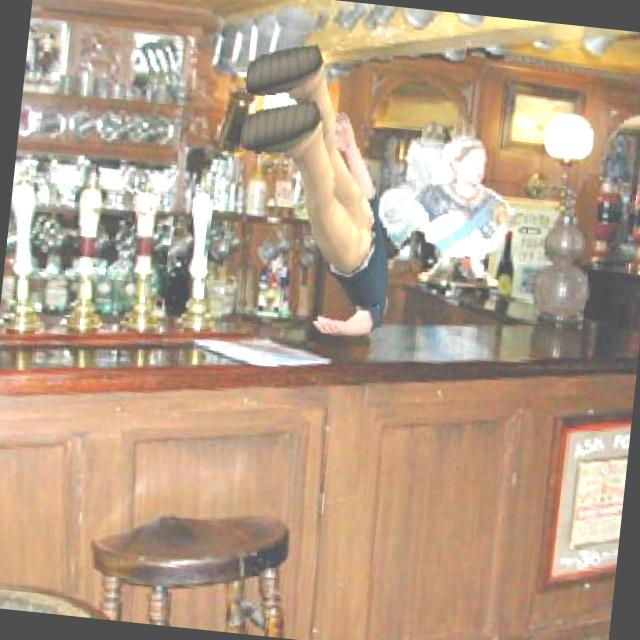Person: (215, 31, 418, 347)
